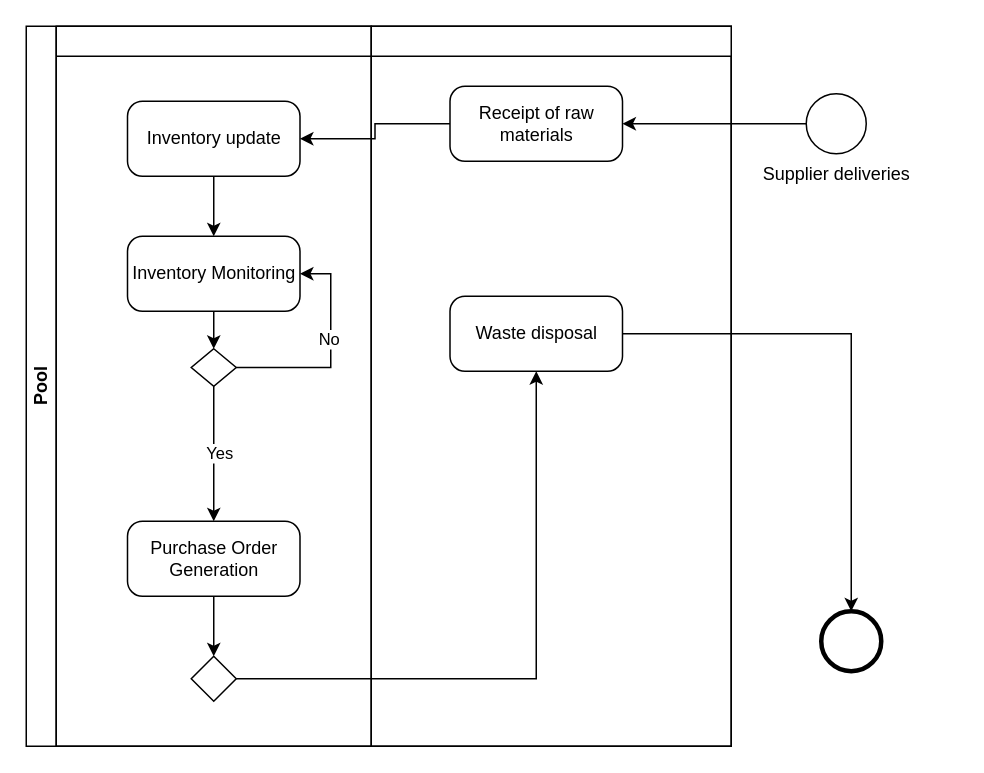
The diagram is 984 pixels wide and 773 high, and some of its shapes have lost their labels. The shapes that lost their labels are listed below. From the top down, each one's box as (x1, y1, x2, y2) in pixels, then its label:
(190, 347, 236, 386): Whether the inventory is below the alert level
(55, 25, 371, 746): System
(370, 25, 731, 746): Warehouse Team
(820, 610, 881, 671): Inventory data synchronisation completed
